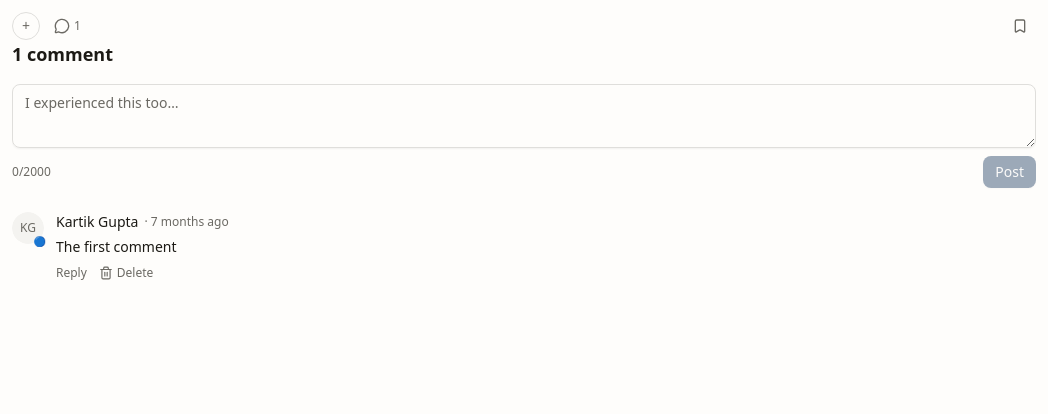
Test case: CommentsSection canonical cache › publishes a reply to its thread, parent count, and shared L total
Expected: the text "The first comment" is shown, [56,237,177,256]
Click the button "Reply".
click(71, 273)  # box [56,265,87,281]
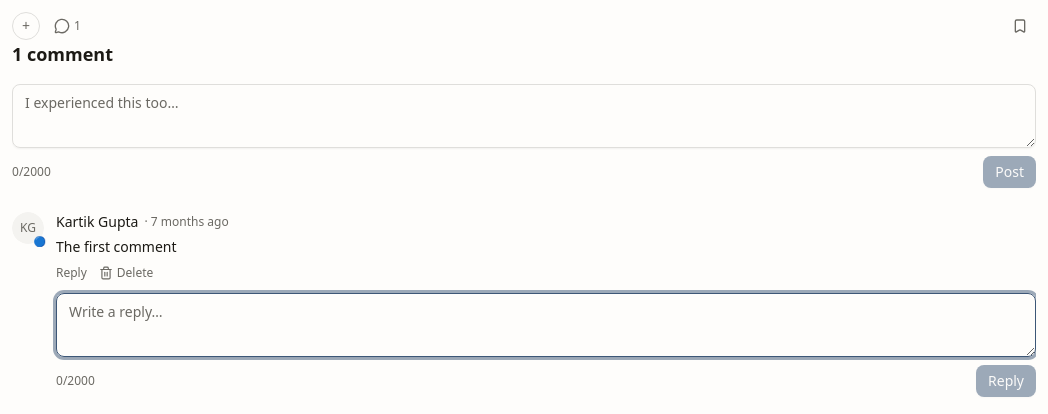
Type "A cached reply" into the text box with placeholder "Write a reply…".
click(546, 325); type("A cached reply")  # box [56,293,1036,357]
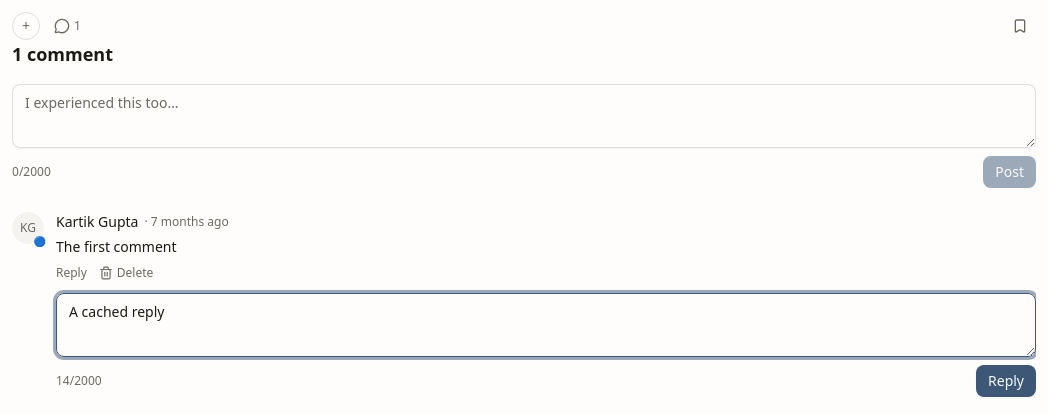
Click the button "Reply" in the row of "14".
click(1006, 381)  # box [976,365,1036,397]
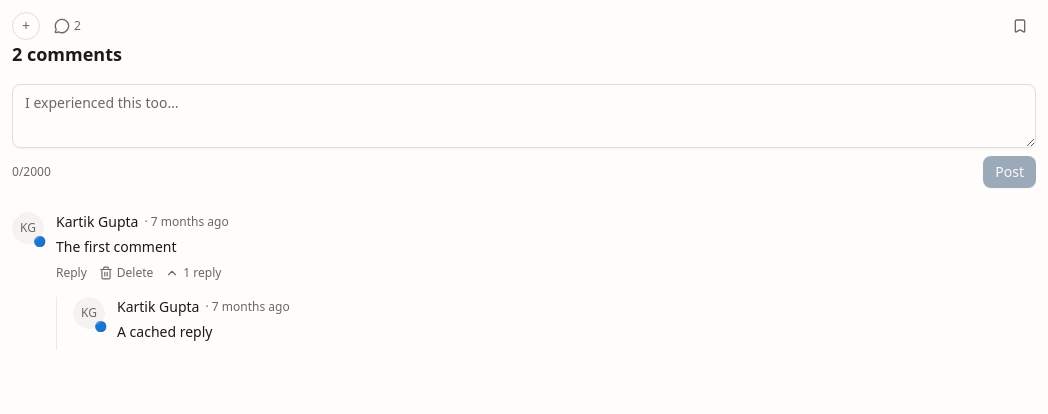
Now the text "A cached reply" is shown, box [117,322,212,341]
Now the button "1 reply" is shown, box [165,265,221,281]
Now the heading "2 comments" is shown, box [12,42,122,66]
